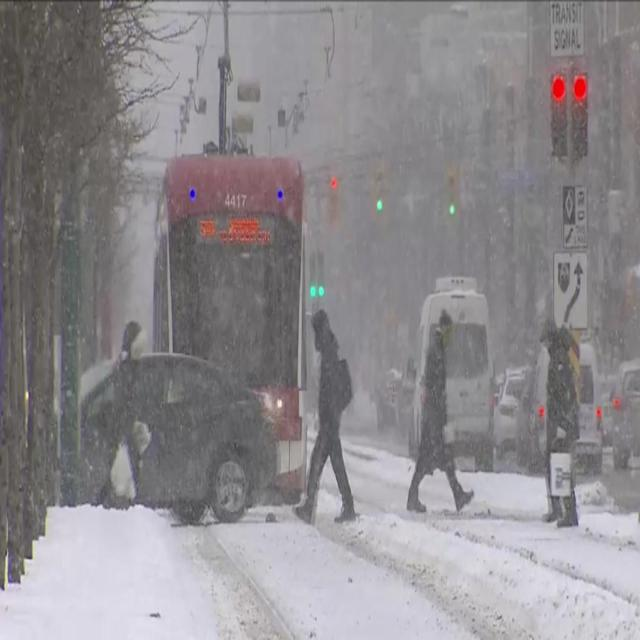Bus: (158, 164, 303, 499)
Car: (89, 368, 268, 508)
Van: (420, 295, 488, 462)
